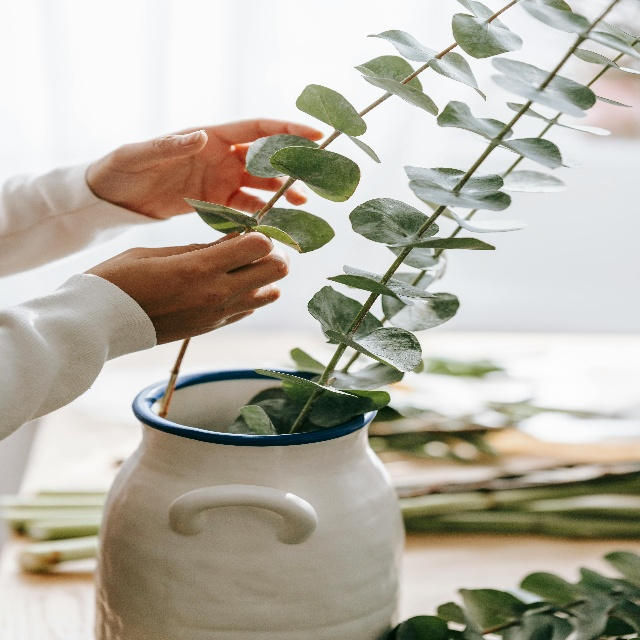Sin_guantes: (103, 218, 290, 348), (88, 118, 326, 218)
